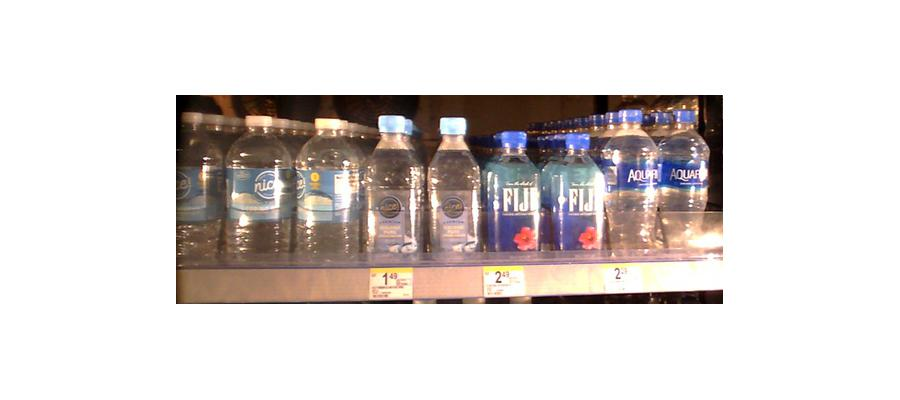bottle: (223, 106, 295, 260), (296, 112, 360, 263), (361, 112, 423, 263), (602, 102, 657, 255), (427, 117, 483, 261), (657, 97, 707, 252), (547, 128, 606, 256), (485, 130, 541, 259), (176, 102, 217, 254)
